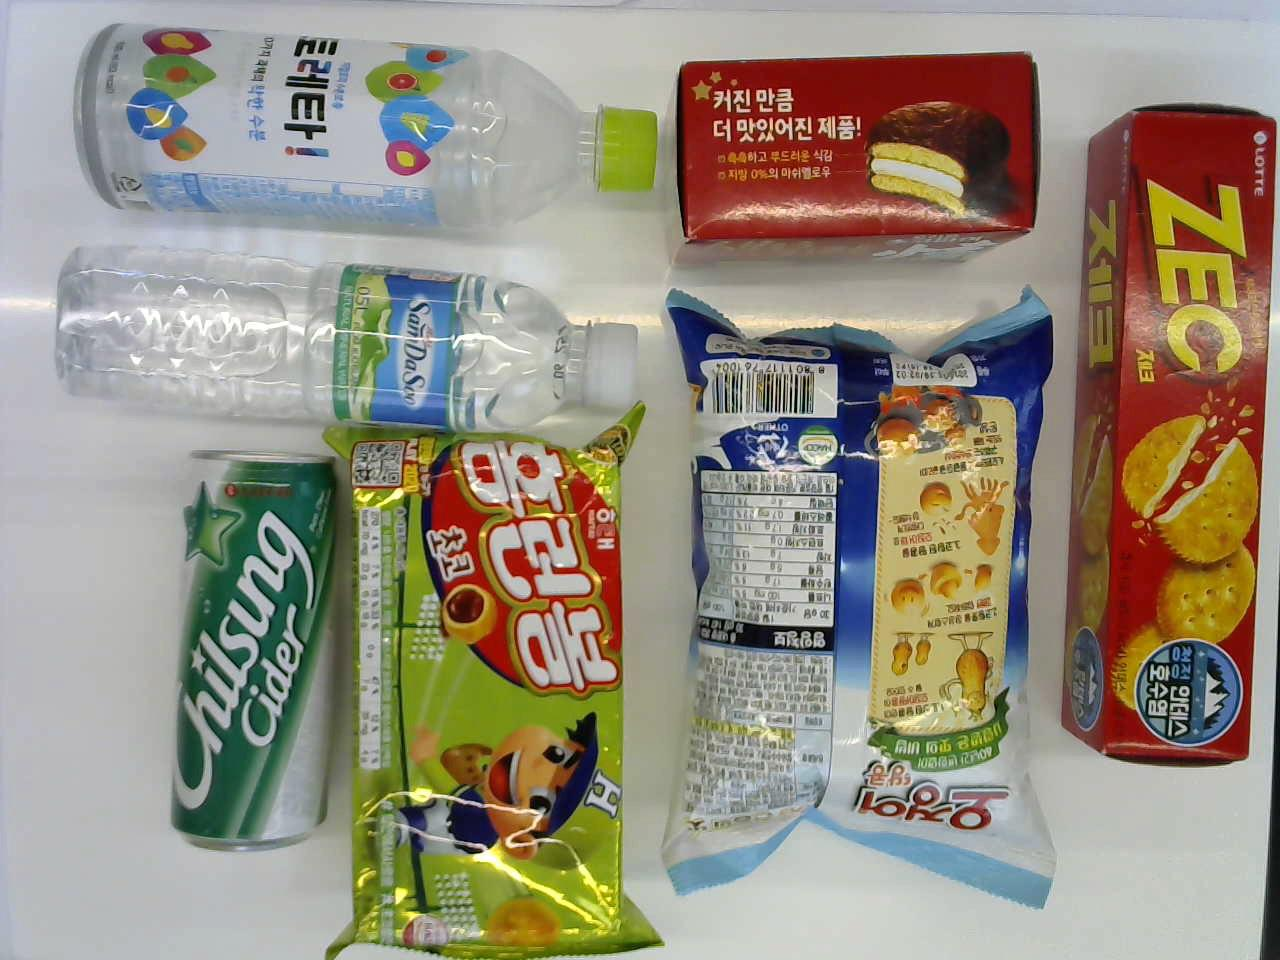chocopie: (673, 37, 1043, 273)
cidar: (161, 445, 336, 862)
homerunball: (341, 418, 652, 941)
samdasu: (58, 233, 645, 449)
squid_peanut: (666, 275, 1053, 929)
toreta: (75, 21, 662, 237)
zec: (1062, 98, 1271, 781)
